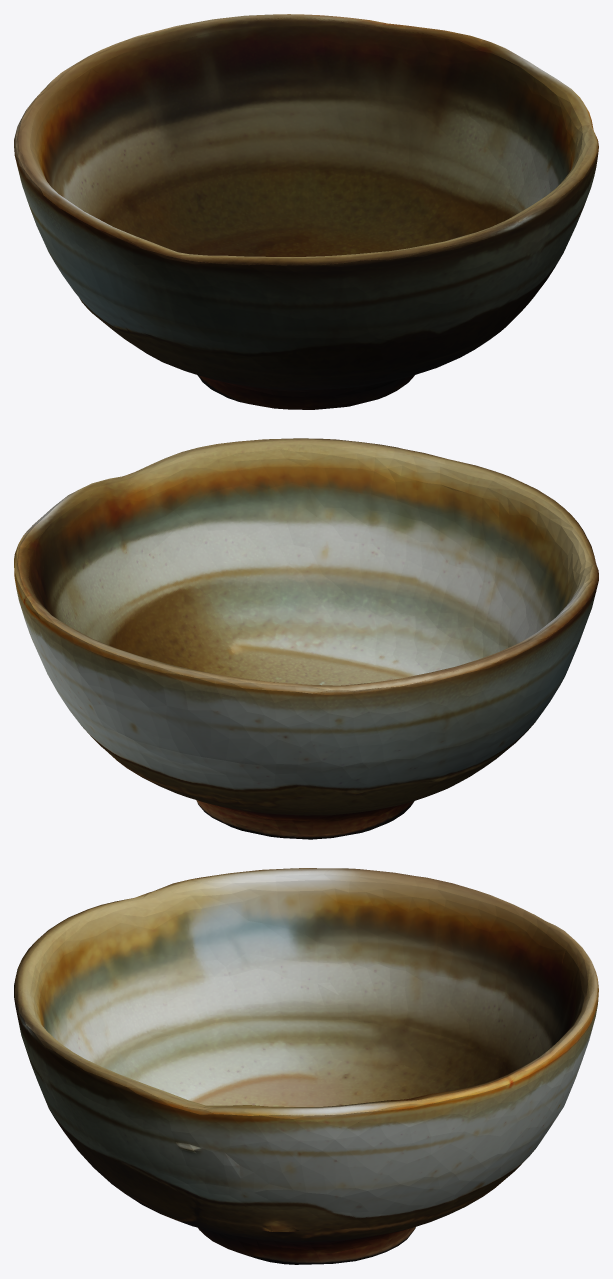
The model's file is porcelain-handcrafted-bowl-used-rustic-worn.jpeg.glb.
3 renders of one model, top to bottom at view 1: azimuth 30°, elevation 25°; view 2: azimuth 150°, elevation 25°; view 3: azimuth 270°, elevation 25°, orthographic.
Parts seen in each view (by area): view 1: world; view 2: world; view 3: world.
Part boxes in pixels (x1,y1,x2,y2): world: (14, 14, 598, 409); world: (14, 438, 598, 839); world: (14, 868, 598, 1264).
Bounding box in the file's own units: 0.9971 × 0.4411 × 0.9951.
1 material, 1 textured.
